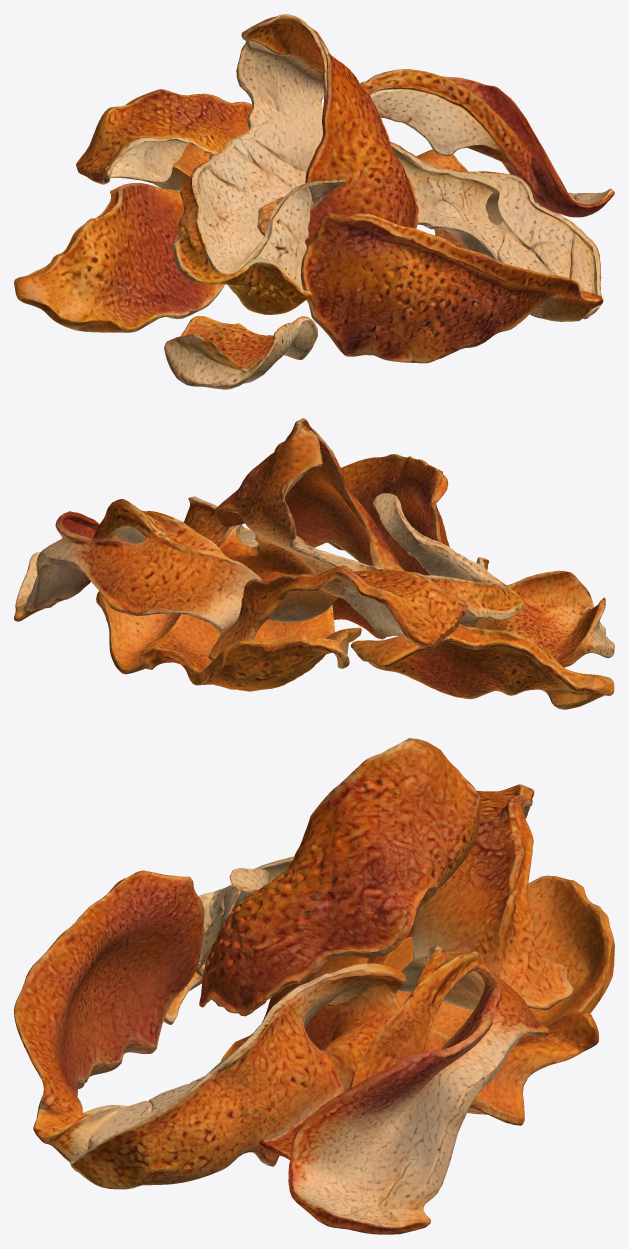
File: lod_basic_pbr.fbx
3 renders of one model, top to bottom at view 1: azimuth 30°, elevation 25°; view 2: azimuth 150°, elevation 25°; view 3: azimuth 270°, elevation 25°, orthographic. The views are drawn at different scales.
Parts seen in each view (by area): view 1: model_LOD0; view 2: model_LOD0; view 3: model_LOD0.
Boxes of the visible parts, x1=… form: model_LOD0: x1=14, y1=14, x2=614, y2=389; model_LOD0: x1=14, y1=418, x2=614, y2=709; model_LOD0: x1=14, y1=738, x2=614, y2=1234.
Size of what is drawn, in the model's own units: 190 by 84.31 by 134.
1 material, 1 textured.
